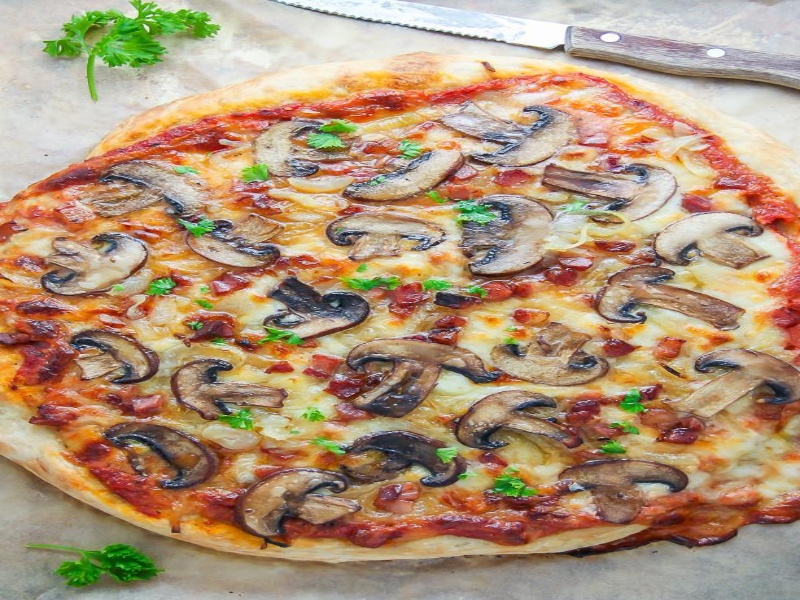champignon: (342, 340, 501, 420), (592, 266, 753, 333), (230, 466, 365, 542), (669, 346, 800, 424), (433, 99, 576, 170), (555, 456, 692, 527), (455, 196, 562, 285), (90, 157, 217, 228), (100, 421, 223, 494), (488, 320, 616, 389), (539, 163, 679, 225), (455, 389, 585, 454), (169, 356, 291, 425), (344, 145, 471, 209), (340, 432, 469, 491), (42, 232, 153, 299), (322, 212, 446, 271), (250, 117, 359, 184), (263, 276, 371, 343), (657, 211, 766, 274), (185, 213, 290, 275), (67, 330, 166, 390)
